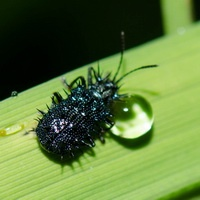insect: (35, 44, 156, 159)
